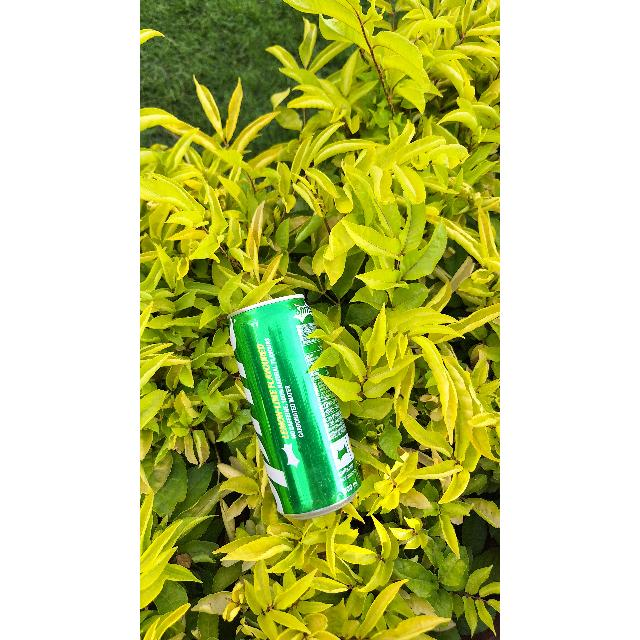Sprite: (232, 296, 358, 514)
